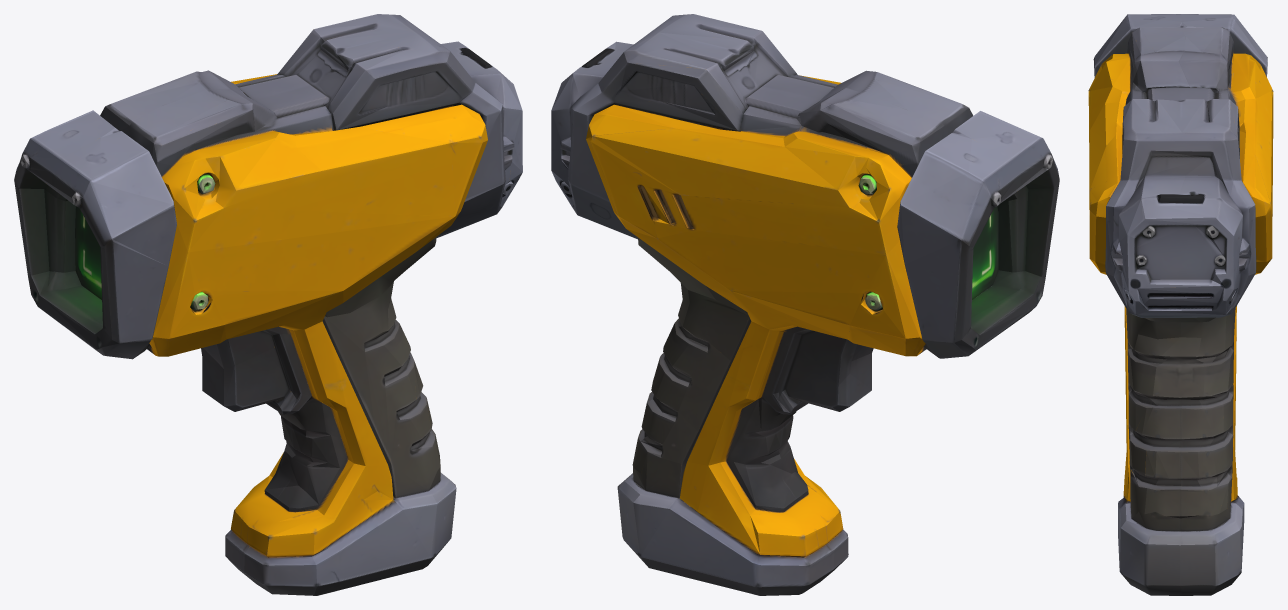
The model's file is Industrial_Scanner.fbx.
3 renders of one model, left to right at view 1: azimuth 30°, elevation 25°; view 2: azimuth 150°, elevation 25°; view 3: azimuth 270°, elevation 25°, orthographic. The views are drawn at different scales.
Parts seen in each view (by area): view 1: output_unwrapped; view 2: output_unwrapped; view 3: output_unwrapped.
Boxes of the visible parts, x1,y1,x2,y2 form: output_unwrapped: [14, 14, 522, 595]; output_unwrapped: [551, 14, 1059, 595]; output_unwrapped: [1088, 14, 1273, 595].
Bounding box in the file's own units: 172 × 190 × 68.84.
Materials: 1 (1 with a texture image).
